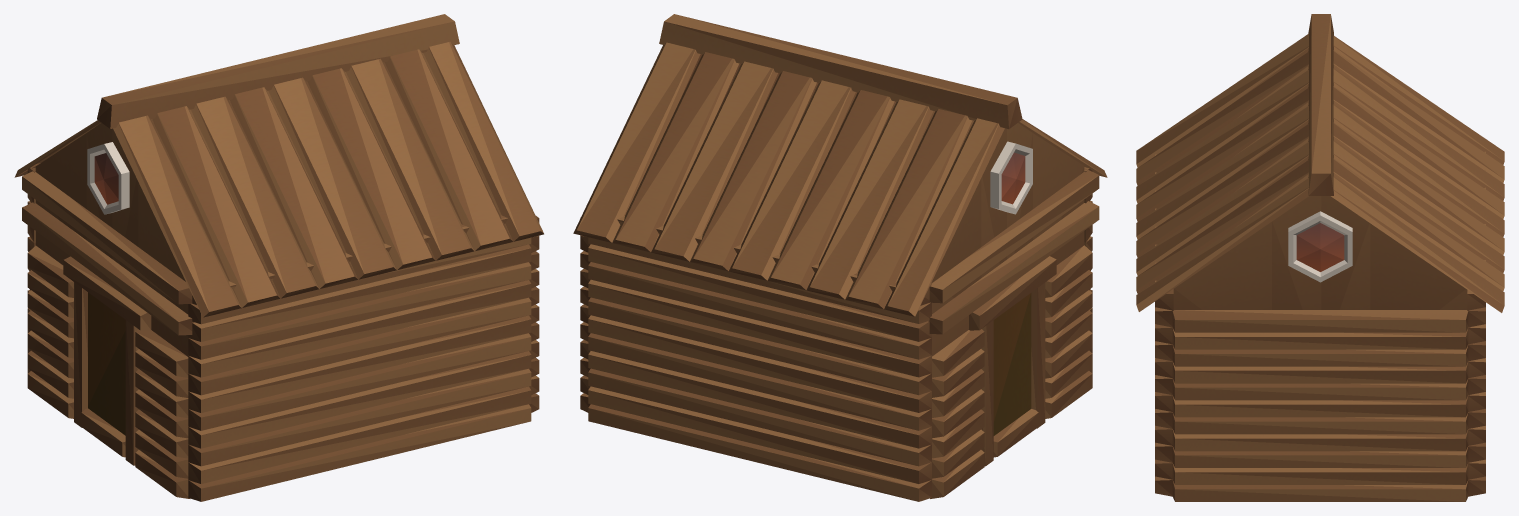
Rendered from House.fbx.
The picture shows the model from 3 angles, left to right: view 1: azimuth 30°, elevation 25°; view 2: azimuth 150°, elevation 25°; view 3: azimuth 270°, elevation 25°; orthographic projection. The views are drawn at different scales.
Visible parts, largest first — view 1: polySurface552; view 2: polySurface552; view 3: polySurface552.
Boxes of the visible parts, x1,y1,x2,y2 form: polySurface552: (14,14,543,501); polySurface552: (573,14,1107,501); polySurface552: (1136,14,1504,501).
Bounding box in the file's own units: 545 × 491 × 502.
